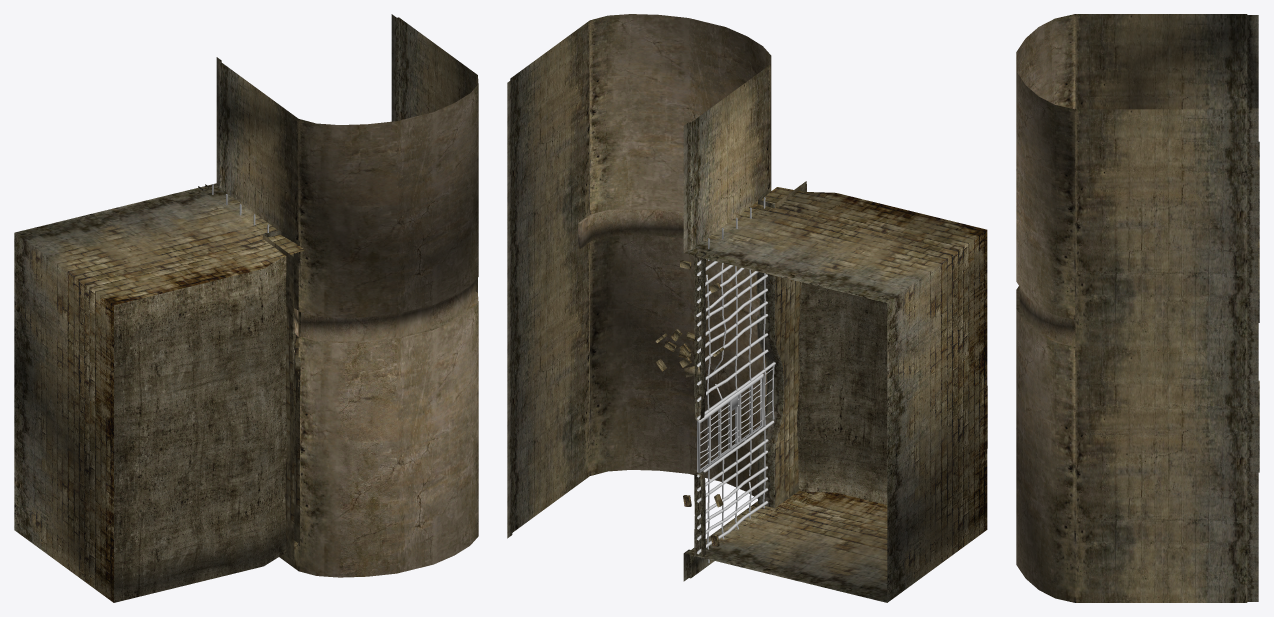
Rendered from #LVL_Basement_jail2.fbx.
3 renders of one model, left to right at view 1: azimuth 30°, elevation 25°; view 2: azimuth 150°, elevation 25°; view 3: azimuth 270°, elevation 25°, orthographic. The views are drawn at different scales.
Visible parts, largest first — view 1: Cube.029; view 2: Cube.029; view 3: Cube.029.
Boxes of the visible parts, <box> form: Cube.029: <box>14,14,478,602</box>; Cube.029: <box>507,14,987,602</box>; Cube.029: <box>1016,14,1259,602</box>.
Size of the model in its own units: 31.59 by 36 by 16.06.
